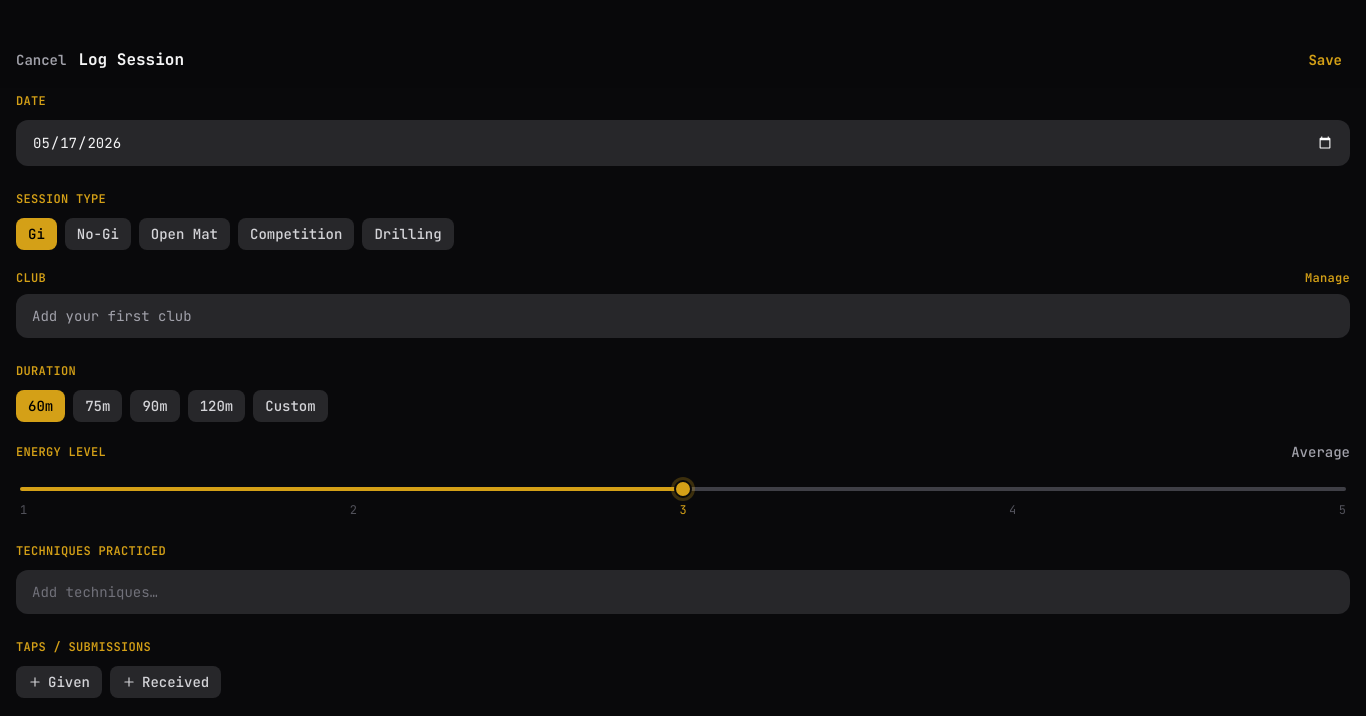
Test: AddEditSessionPage — technique picker › shows Add new technique option in picker
Click the button "Add techniques…". click: coordinates (95, 592)
box: [16, 570, 1350, 614]
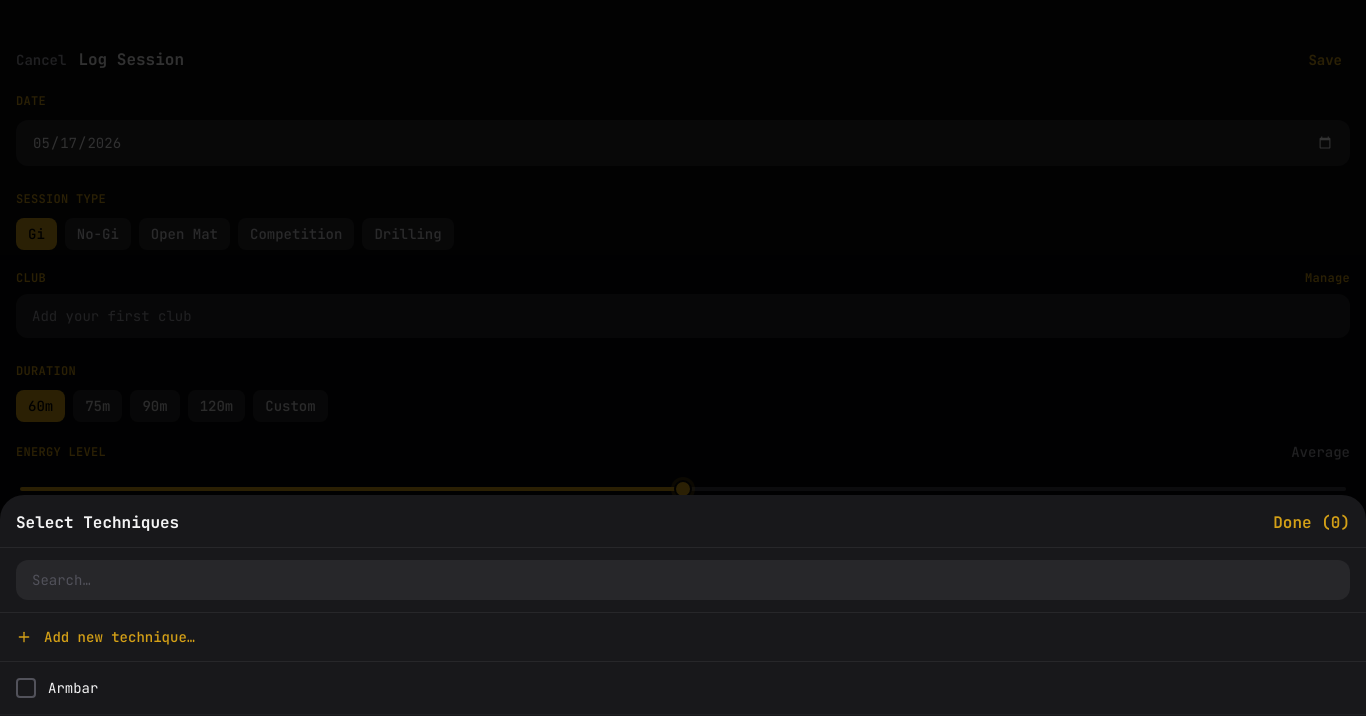
Result: the text "Add new technique…" is shown at [44, 627, 195, 647]
